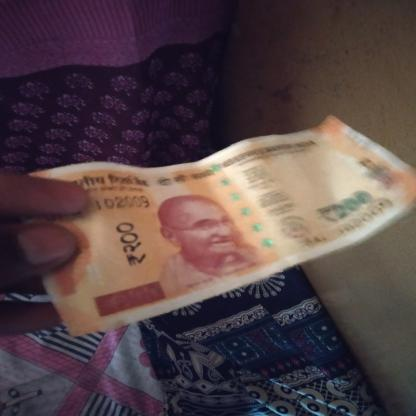New200Front: (43, 138, 401, 290)
